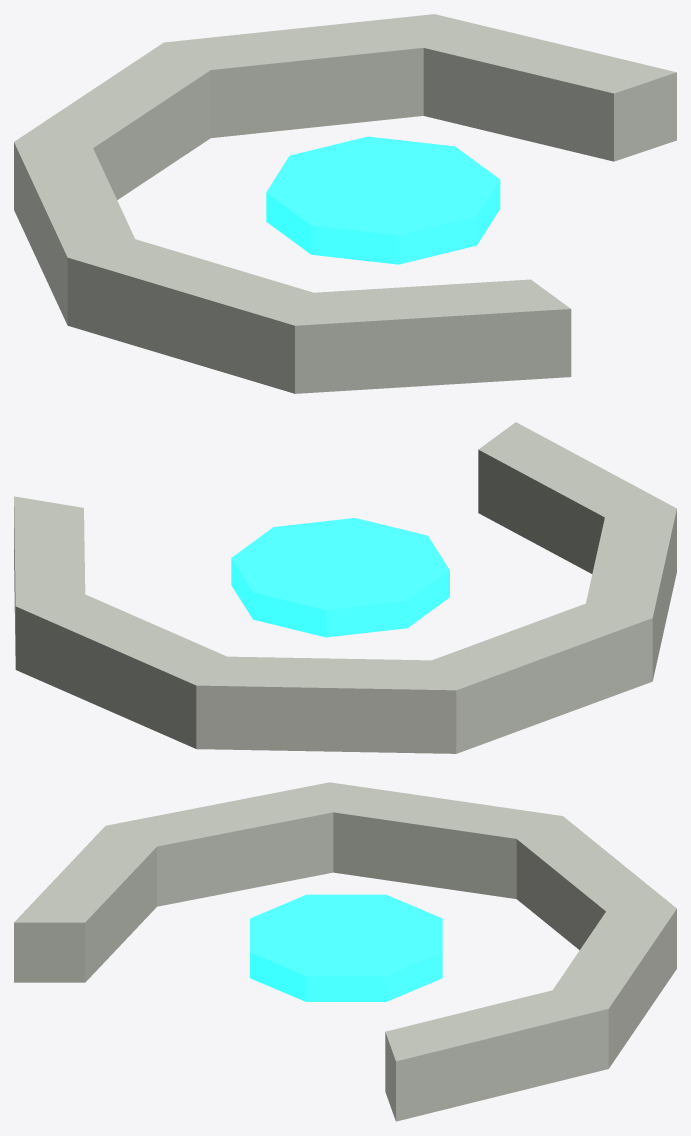
Rendered from City_Streetlight_4m_Luminaire.glb.
3 renders of one model, top to bottom at view 1: azimuth 30°, elevation 25°; view 2: azimuth 150°, elevation 25°; view 3: azimuth 270°, elevation 25°, orthographic. The views are drawn at different scales.
Visible parts, largest first — view 1: City_Streetlight_4m_Luminaire; view 2: City_Streetlight_4m_Luminaire; view 3: City_Streetlight_4m_Luminaire.
Boxes of the visible parts, <box> form: City_Streetlight_4m_Luminaire: <box>14,14,676,393</box>; City_Streetlight_4m_Luminaire: <box>14,422,676,753</box>; City_Streetlight_4m_Luminaire: <box>14,782,676,1121</box>.
Size of the model in its own units: 1.39 by 0.14 by 1.4.
